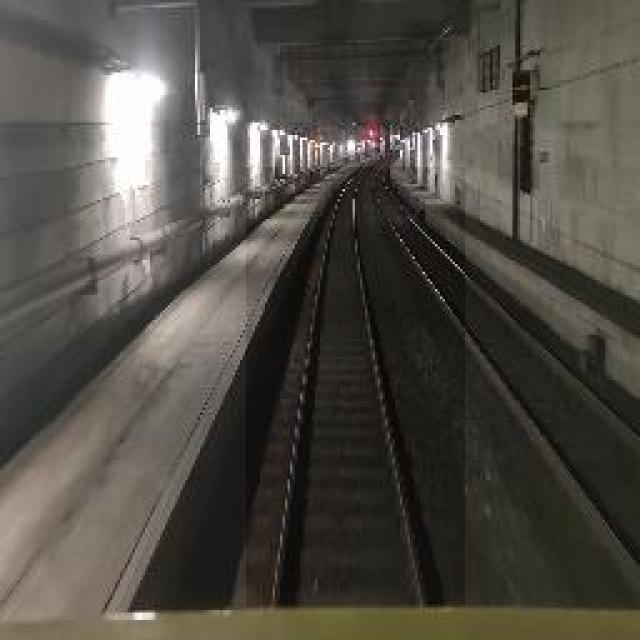rail: (247, 169, 466, 609)
